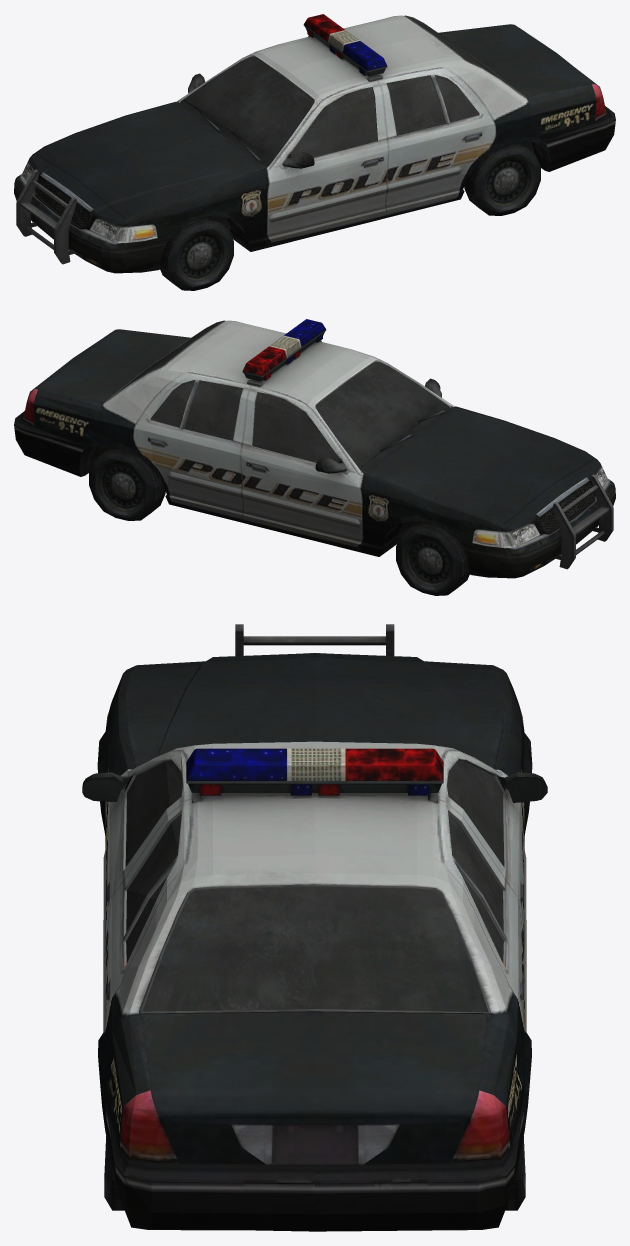
File: police.car.glb
The picture shows the model from 3 angles, top to bottom: view 1: azimuth 30°, elevation 25°; view 2: azimuth 150°, elevation 25°; view 3: azimuth 270°, elevation 25°; orthographic projection. The views are drawn at different scales.
Size of the model in its own units: 2.5 by 0.7449 by 0.9334.
4 materials, 4 textured.
